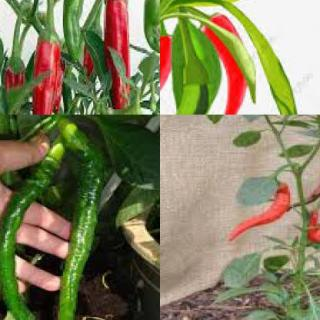green_chilli: (45, 123, 109, 320), (0, 143, 58, 319), (160, 80, 215, 114), (62, 0, 86, 66), (141, 0, 159, 52)
